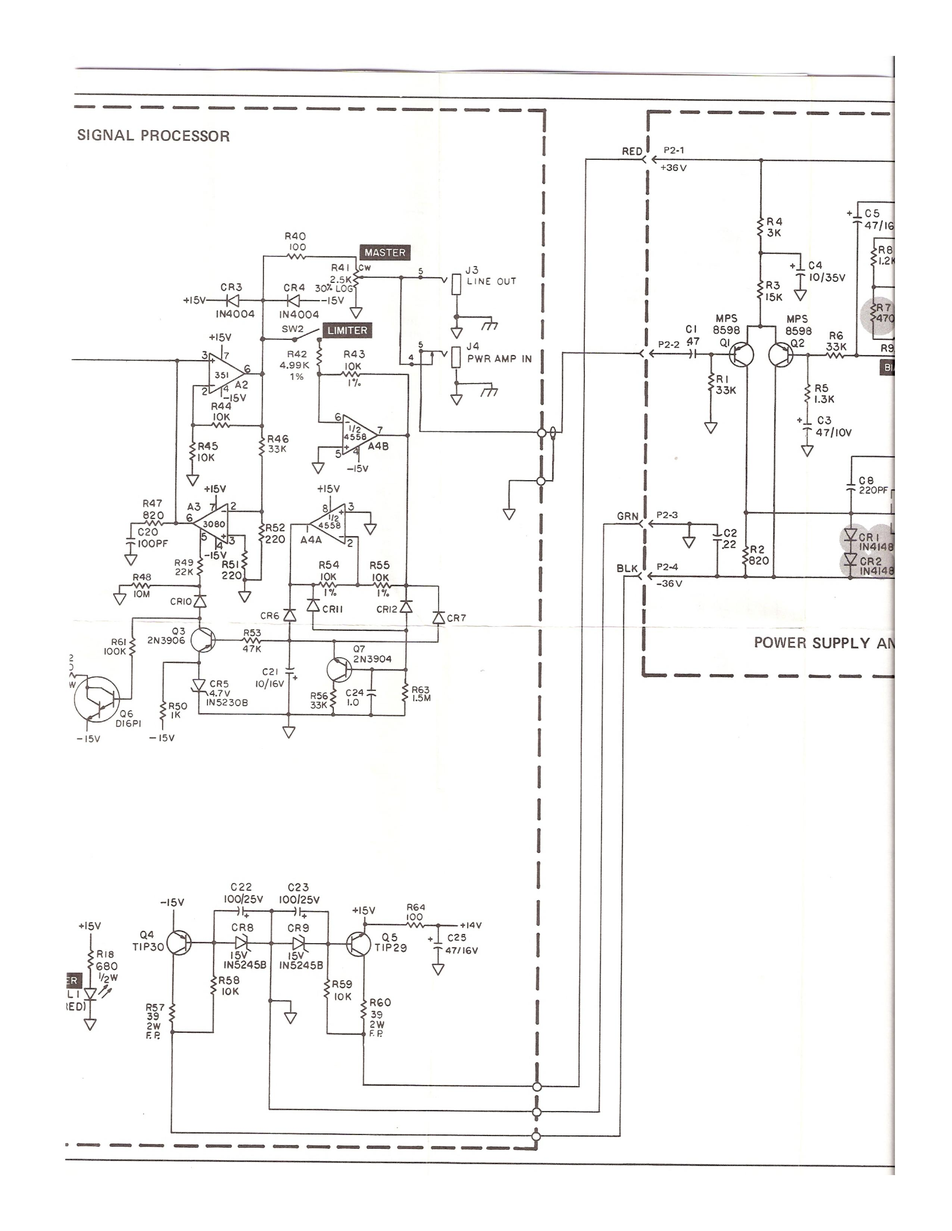C1: (685, 324, 697, 334)
C2: (723, 527, 737, 538)
C20: (137, 527, 159, 537)
C21: (261, 667, 279, 676)
C22: (229, 881, 253, 893)
C23: (287, 880, 311, 892)
C24: (345, 688, 366, 697)
C25: (447, 932, 467, 943)
C3: (816, 415, 833, 426)
C4: (807, 260, 824, 271)
C5: (864, 207, 882, 218), (865, 207, 881, 218)
C8: (858, 475, 875, 485)
CR10: (857, 531, 881, 542), (170, 597, 193, 606)
CR11: (322, 604, 343, 615)
CR12: (375, 604, 398, 614)
CR2: (859, 556, 884, 567)
CR3: (218, 282, 248, 293)
CR5: (209, 679, 230, 688)
CR6: (260, 611, 280, 621)
CR7: (447, 613, 467, 623)
CR8: (229, 921, 254, 931)
CR9: (287, 923, 310, 933)
DW2: (281, 324, 304, 334)
Q1: (718, 338, 731, 349)
Q2: (789, 337, 805, 349)
Q3_4: (171, 625, 186, 636)
Q4: (139, 929, 155, 941)
Q5: (381, 932, 400, 942)
Q6: (119, 709, 135, 718)
Q7: (352, 645, 366, 654)
R1: (716, 375, 730, 385)
R18: (96, 949, 115, 959)
R2: (749, 543, 765, 554)
R3: (765, 279, 781, 291)
R4: (766, 216, 784, 227)
R40: (285, 231, 307, 241)
R41: (330, 262, 350, 272)
R42: (286, 349, 308, 359)
R43: (343, 349, 366, 359)
R44: (210, 402, 232, 410)
R45: (197, 441, 218, 450)
R46: (266, 433, 289, 444)
R47: (142, 498, 163, 508)
R48: (132, 572, 151, 582)
R49: (174, 559, 193, 566)
R5: (814, 382, 831, 393)
R50: (167, 702, 188, 710)
R51: (221, 560, 239, 569)
R52: (265, 523, 286, 533)
R53: (243, 628, 262, 638)
R54: (318, 559, 341, 571)
R55: (369, 560, 391, 571)
R56: (309, 691, 329, 700)
R57: (145, 1002, 166, 1012)
R58: (218, 974, 241, 985)
R59: (331, 978, 354, 991)
R6: (828, 331, 844, 342)
R60: (368, 996, 394, 1007)
R61: (109, 637, 128, 647)
R63: (411, 685, 431, 694)
R64: (406, 902, 426, 912)
VR4: (283, 282, 306, 293)
